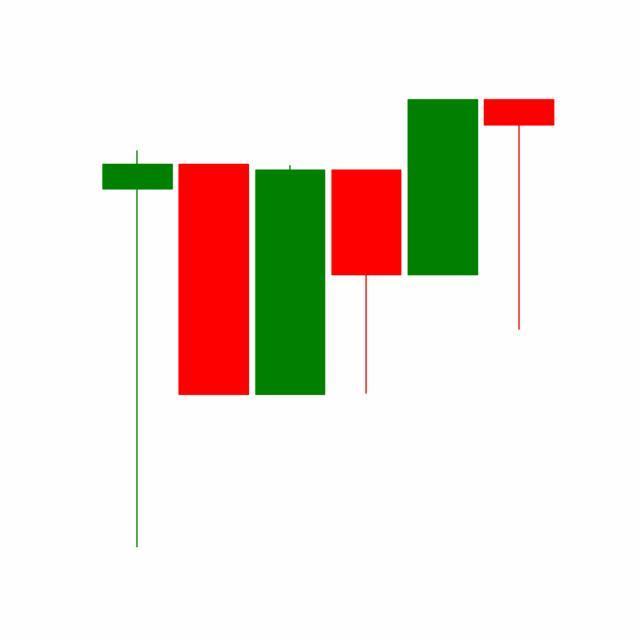Marubozu: (404, 97, 482, 277)
